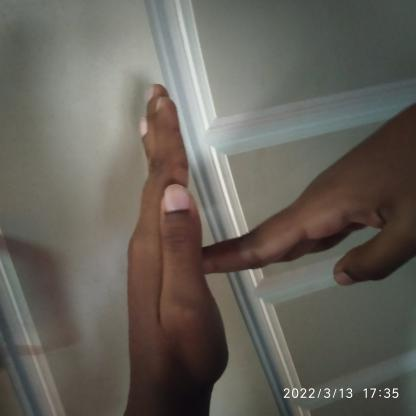Z: (118, 72, 386, 384)
